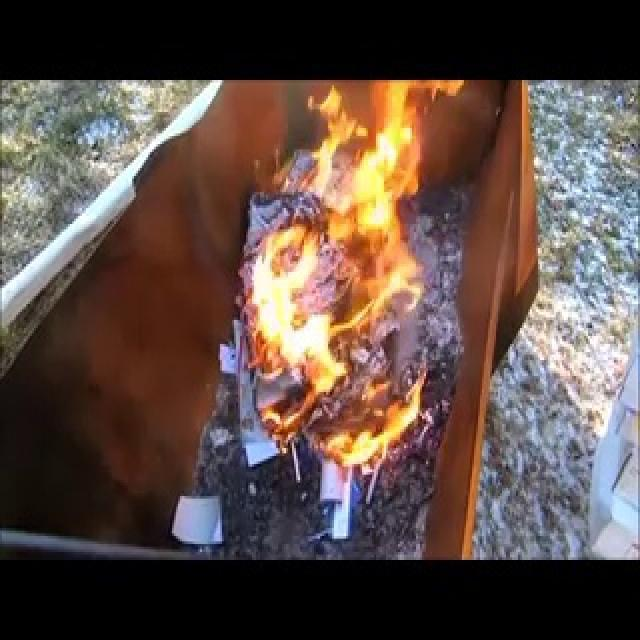fire: (241, 80, 457, 464)
